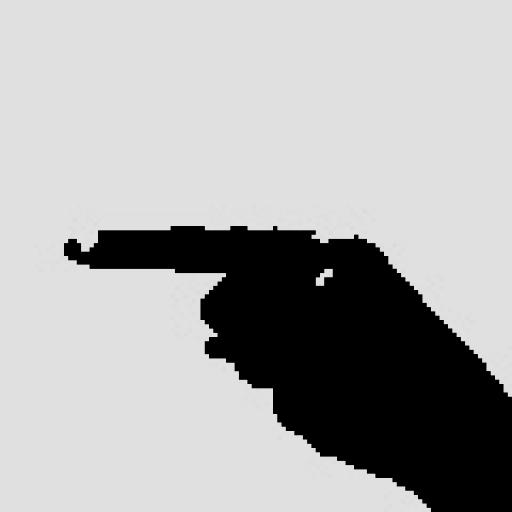index_right: (62, 223, 512, 414)
